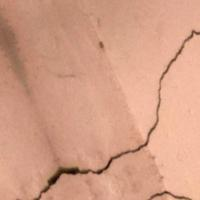crack: (25, 24, 199, 199)
